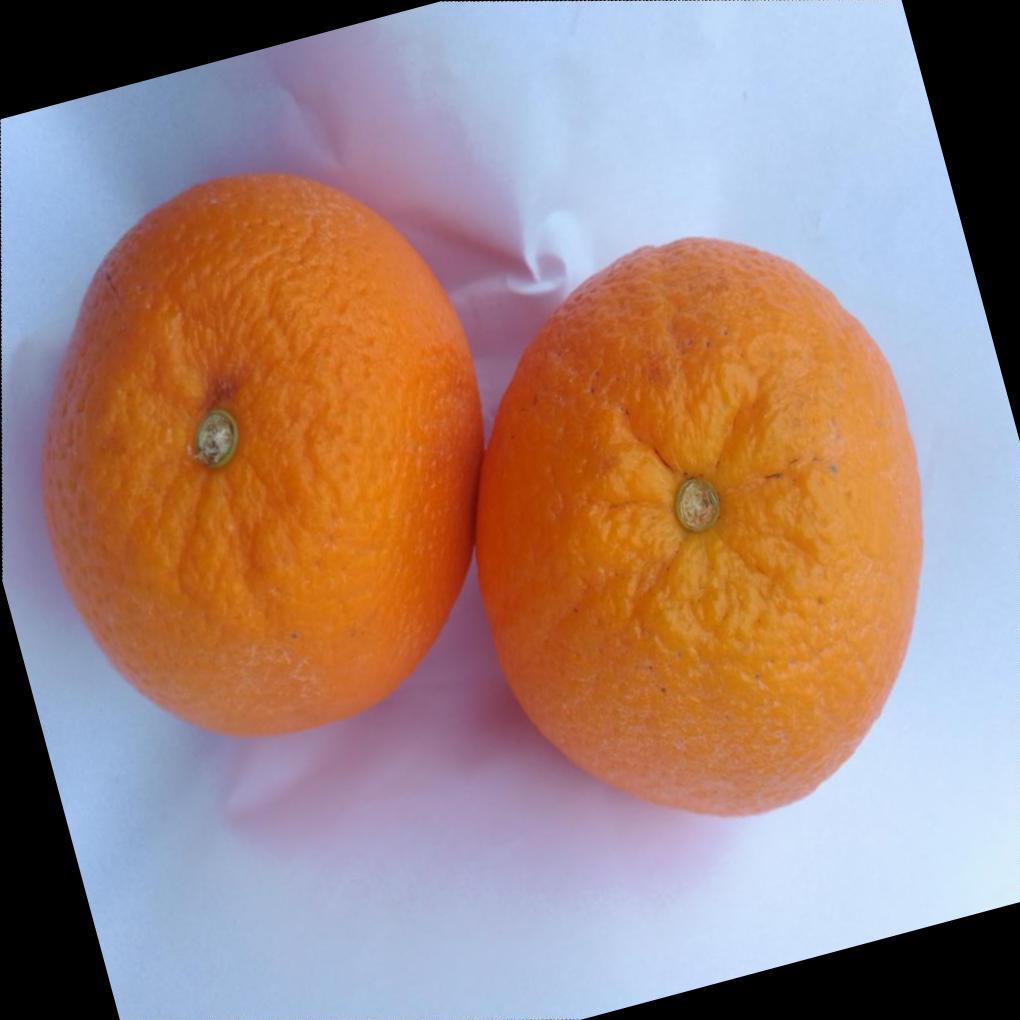FreshGuava: (34, 172, 921, 820)
